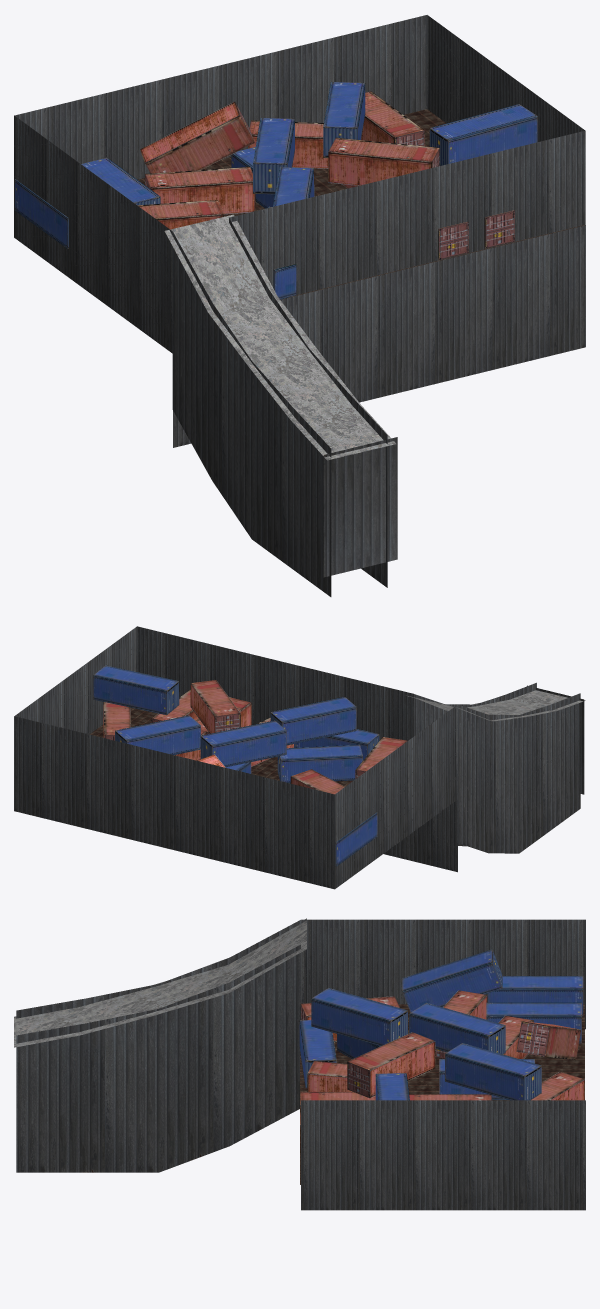
The model's file is decktest.FBX.
The picture shows the model from 3 angles, top to bottom: view 1: azimuth 30°, elevation 25°; view 2: azimuth 150°, elevation 25°; view 3: azimuth 270°, elevation 25°; orthographic projection. The views are drawn at different scales.
Visible parts, largest first — view 1: Plane012, Plane005, Plane008, Plane002, Plane004, Plane010, Plane011, Plane003, Box012, Box020, Box015, Box004 (+12 smaller); view 2: Plane002, Plane008, Plane005, Plane004, Plane003, Box020, Box016, Box009, Plane012, Box006, Box018, Box015 (+11 smaller); view 3: Plane009, Plane003, Plane004, Plane010, Box018, Box009, Box003, Box015, Box016, Box002, Plane001, Box005 (+12 smaller).
Part boxes in pixels (x1,y1,x2,y2): Plane012: (173,225,585,447); Plane005: (229,130,585,294); Plane008: (172,232,331,596); Plane002: (15,15,427,179); Plane004: (14,115,172,353); Plane010: (164,214,395,460); Plane011: (323,437,397,577); Plane003: (427,15,584,141); Box012: (140,101,254,173); Box020: (429,104,537,165); Box015: (328,137,439,185); Box004: (145,167,255,214); Plane002: (14,716,334,889); Plane008: (457,693,580,853); Plane005: (137,626,413,740); Plane004: (334,705,457,888); Plane003: (14,626,137,810); Box020: (93,665,179,715); Box016: (200,720,286,767); Box009: (270,697,356,745); Plane012: (384,800,457,872); Box006: (277,744,362,783); Box018: (115,715,200,754); Box015: (190,680,240,733); Plane009: (16,944,300,1172); Plane003: (301,1100,585,1210); Plane004: (301,919,585,1029); Plane010: (14,918,306,1047); Box018: (445,1043,541,1100); Box009: (311,988,407,1046); Box003: (402,949,502,1012); Box015: (347,1032,435,1098); Box016: (409,1002,505,1054); Box002: (487,976,583,1016); Plane001: (300,1004,584,1184); Box005: (486,1002,581,1043).
Size of the model in its own units: 260 by 151 by 342.
5 materials, 5 textured.
